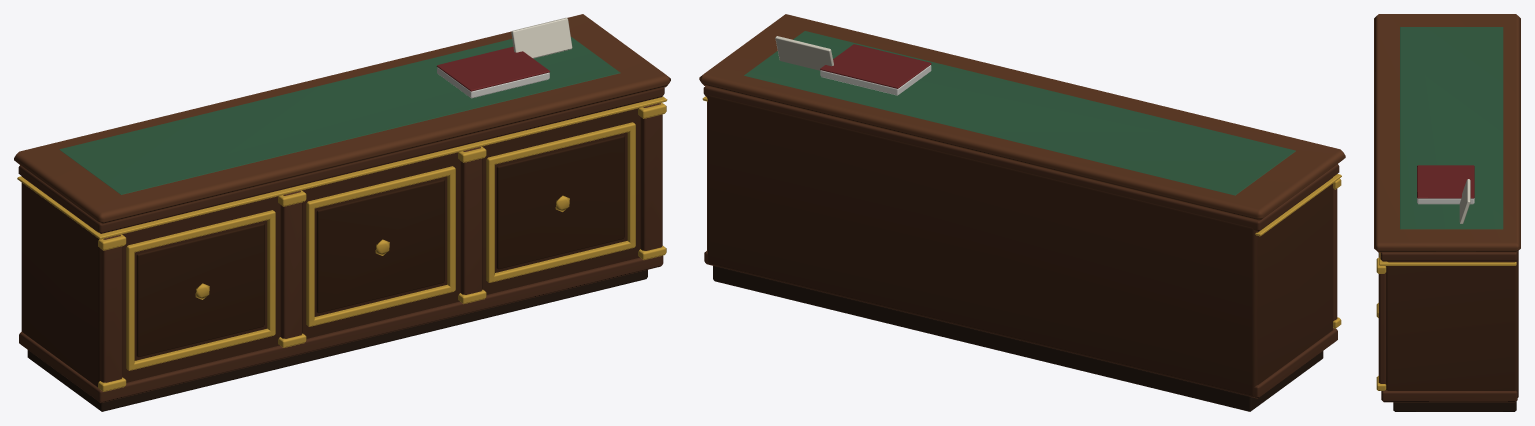
Rendered from furn_museum_desk.glb.
3 views of the same model, side by side, from view 1: azimuth 30°, elevation 25°; view 2: azimuth 150°, elevation 25°; view 3: azimuth 270°, elevation 25° (orthographic). The views are drawn at different scales.
Parts seen in each view (by area): view 1: furn_museum_desk_main; view 2: furn_museum_desk_main; view 3: furn_museum_desk_main.
Part boxes in pixels (left/top/right/bottom): furn_museum_desk_main: left=14, top=14, right=670, bottom=411; furn_museum_desk_main: left=699, top=14, right=1345, bottom=411; furn_museum_desk_main: left=1374, top=14, right=1520, bottom=411.
Size of the model in its own units: 2.87 by 1.13 by 0.767.
